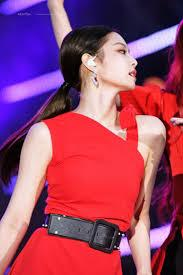earphone: (86, 57, 98, 68)
